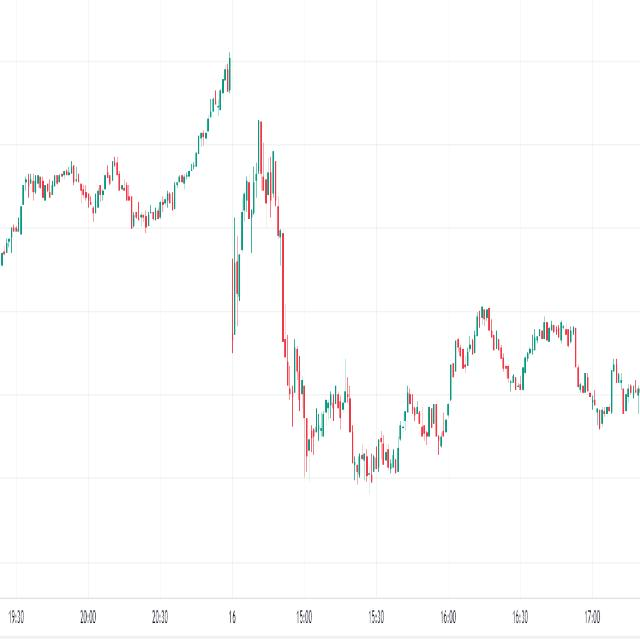Head-Shoulders: (228, 109, 290, 353)
